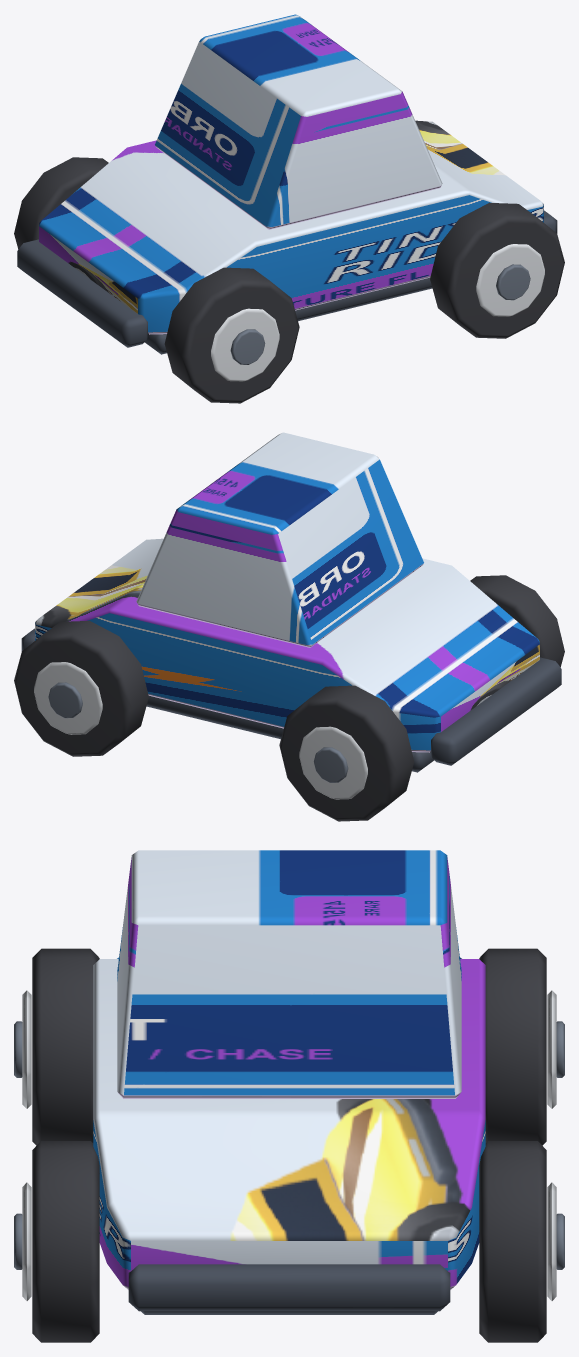
3 views of the same model, one above another, from view 1: azimuth 30°, elevation 25°; view 2: azimuth 150°, elevation 25°; view 3: azimuth 270°, elevation 25° (orthographic). The views are drawn at different scales.
Visible parts, largest first — view 1: FF-02_connected_shell, FF-02_cabin, Tire.002, Tire, front bumper, Tire.001, Rim, Rim.002, underbody, Hub.002, Hub; view 2: FF-02_connected_shell, FF-02_cabin, Tire.003, Tire.001, front bumper, Tire, Rim.001, Rim.003, underbody, Hub.003, Hub.001; view 3: FF-02_cabin, FF-02_connected_shell, rear bumper, Tire.002, Tire.003, Tire, Tire.001, underbody, Rim, Rim.001, Rim.002, Rim.003.
Part boxes in pixels (<box>): FF-02_connected_shell: <box>39,120,543,334</box>; FF-02_cabin: <box>155,14,442,229</box>; Tire.002: <box>430,202,564,338</box>; Tire: <box>164,267,299,403</box>; front bumper: <box>17,239,148,347</box>; Tire.001: <box>14,157,108,248</box>; Rim: <box>211,308,279,381</box>; Rim.002: <box>476,244,544,316</box>; underbody: <box>144,277,432,354</box>; Hub.002: <box>496,264,530,300</box>; Hub: <box>230,329,265,364</box>; FF-02_connected_shell: <box>35,538,539,752</box>; FF-02_cabin: <box>136,432,423,647</box>; Tire.003: <box>14,620,148,756</box>; Tire.001: <box>279,685,414,821</box>; front bumper: <box>430,657,561,765</box>; Tire: <box>470,575,564,666</box>; Rim.001: <box>299,726,367,799</box>; Rim.003: <box>34,662,102,734</box>; underbody: <box>146,695,434,772</box>; Hub.003: <box>48,682,82,718</box>; Hub.001: <box>313,747,348,782</box>; FF-02_cabin: <box>117,850,461,1098</box>; FF-02_connected_shell: <box>93,957,485,1289</box>; rear bumper: <box>128,1264,450,1311</box>; Tire.002: <box>32,1141,99,1342</box>; Tire.003: <box>479,1141,546,1342</box>; Tire: <box>32,948,99,1145</box>; Tire.001: <box>479,948,546,1145</box>; underbody: <box>141,1311,437,1314</box>; Rim: <box>22,990,31,1108</box>; Rim.001: <box>547,990,556,1108</box>; Rim.002: <box>22,1182,31,1300</box>; Rim.003: <box>547,1182,556,1300</box>.
Bounding box in the file's own units: 288 × 154 × 212.
